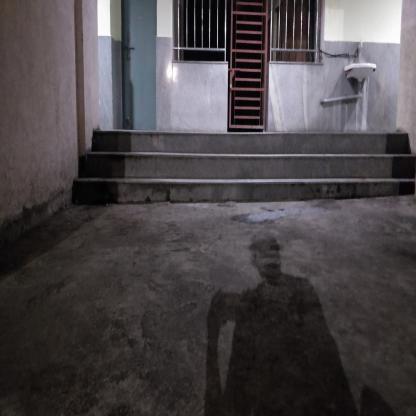stairs: (97, 128, 406, 207)
